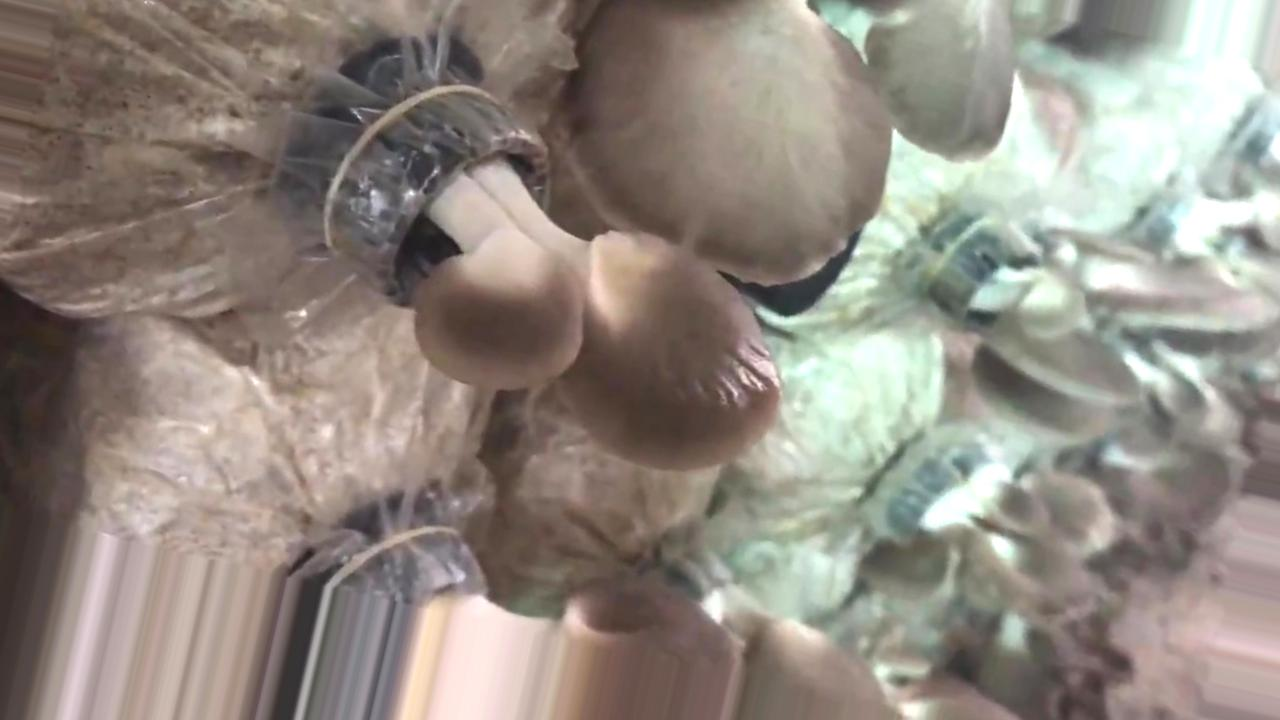nam: (318, 71, 782, 478), (550, 1, 1018, 289), (932, 202, 1274, 442), (876, 437, 1094, 620)
